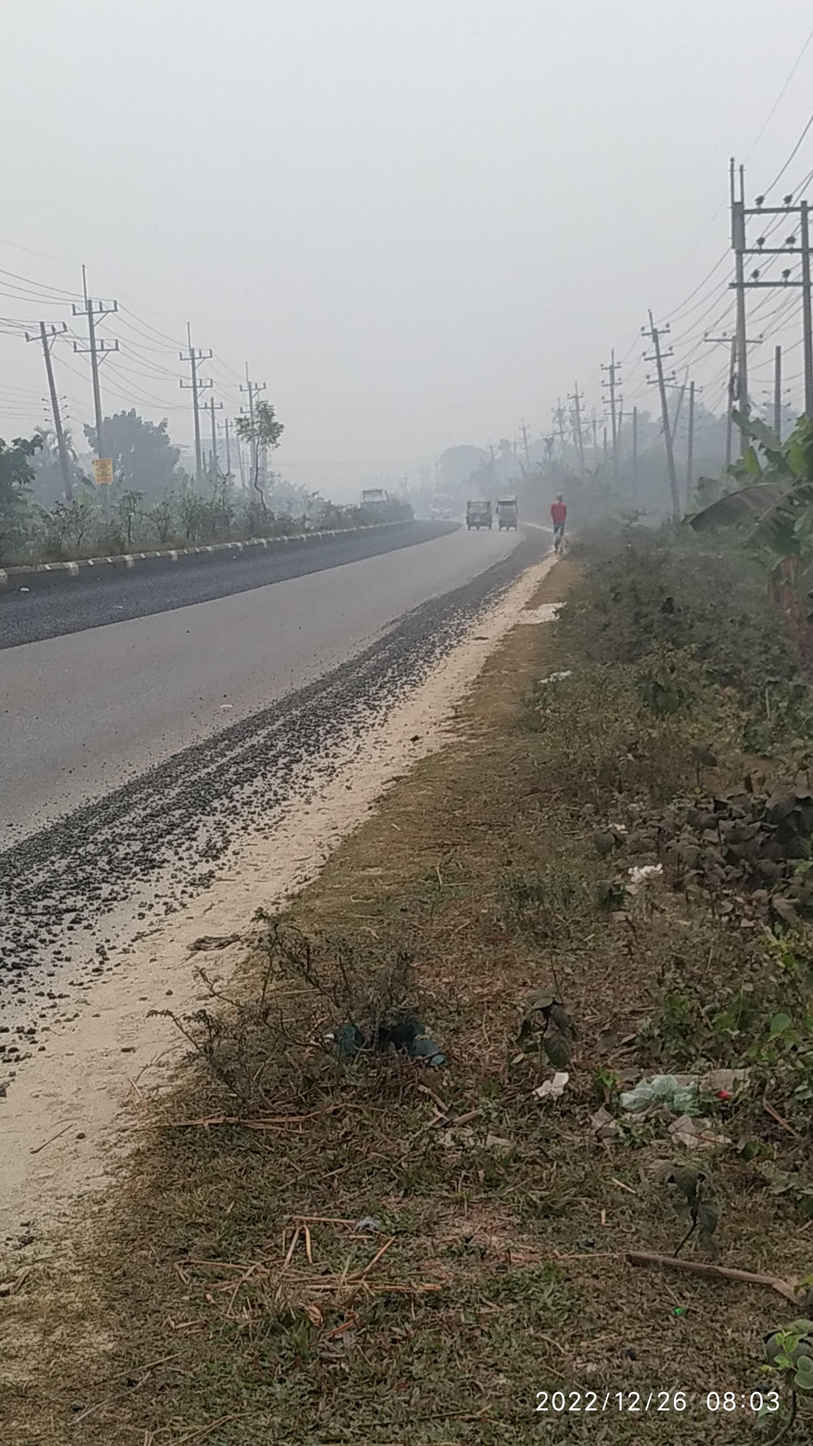Bus: (356, 476, 405, 524)
Car: (492, 496, 526, 540)
